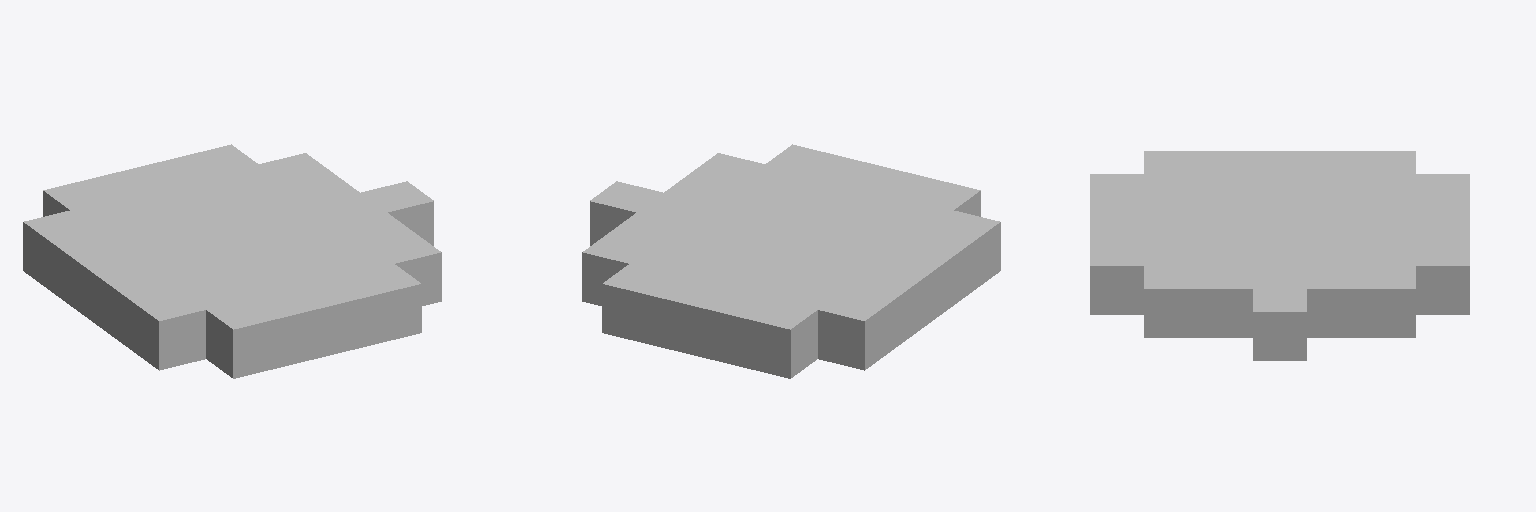
Rendered from obj-alert.obj.
3 views of the same model, side by side, from view 1: azimuth 30°, elevation 25°; view 2: azimuth 150°, elevation 25°; view 3: azimuth 270°, elevation 25° (orthographic).
Visible parts, largest first — view 1: alert; view 2: alert; view 3: alert.
Part boxes in pixels (left/top/right/bottom): alert: left=23, top=144, right=441, bottom=378; alert: left=582, top=144, right=1000, bottom=378; alert: left=1090, top=151, right=1469, bottom=360.
Bounding box in the file's own units: 0.7 × 0.1 × 0.7.